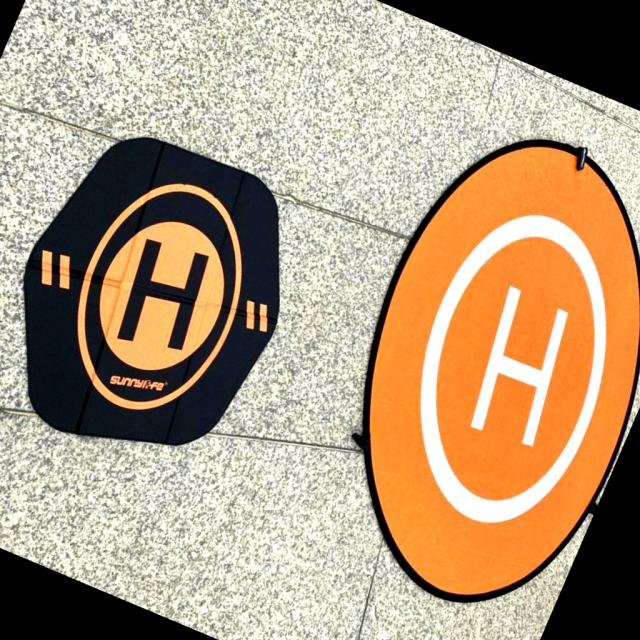helipad: (411, 209, 611, 528), (72, 176, 247, 420)
